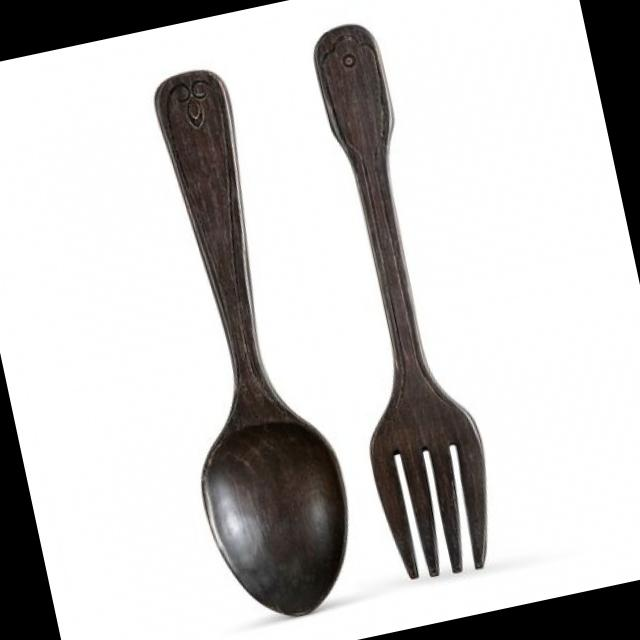fork: (301, 14, 504, 597)
spoon: (140, 62, 358, 629)
